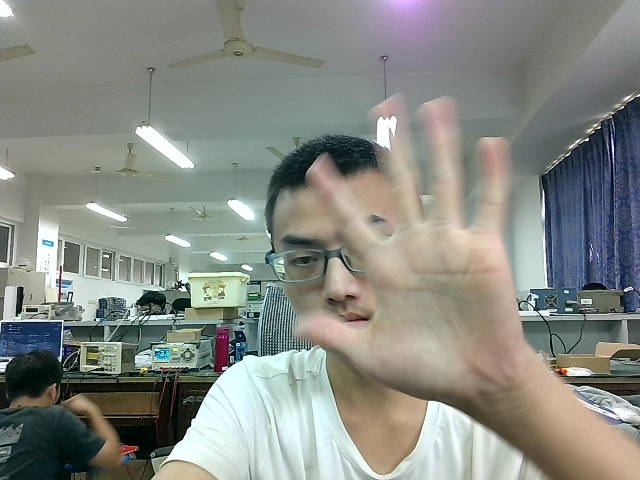paper: (290, 83, 535, 412)
